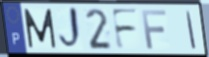2: (84, 8, 114, 51)
F: (110, 7, 140, 51), (140, 9, 168, 51)
I: (185, 9, 197, 51)
J: (57, 5, 84, 52)
M: (22, 7, 58, 50)
